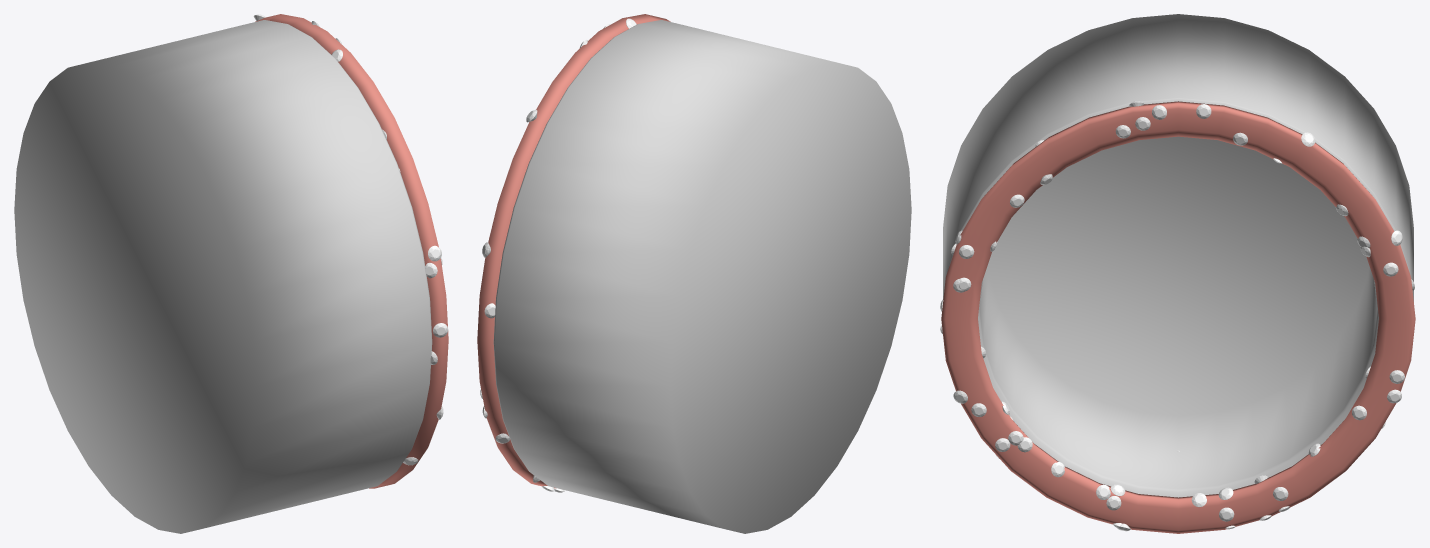
Rendered from frame1.fbx.
3 renders of one model, left to right at view 1: azimuth 30°, elevation 25°; view 2: azimuth 150°, elevation 25°; view 3: azimuth 270°, elevation 25°, orthographic. The views are drawn at different scales.
Parts seen in each view (by area): view 1: Cylinder, face; view 2: Cylinder, face; view 3: Cylinder, face.
Boxes of the visible parts, <box> form: Cylinder: <box>14,20,432,533</box>; face: <box>253,14,448,488</box>; Cylinder: <box>493,20,911,533</box>; face: <box>477,14,670,492</box>; Cylinder: <box>943,14,1413,497</box>; face: <box>940,101,1415,533</box>.
Bounding box in the file's own units: 95.15 × 203 × 202.
